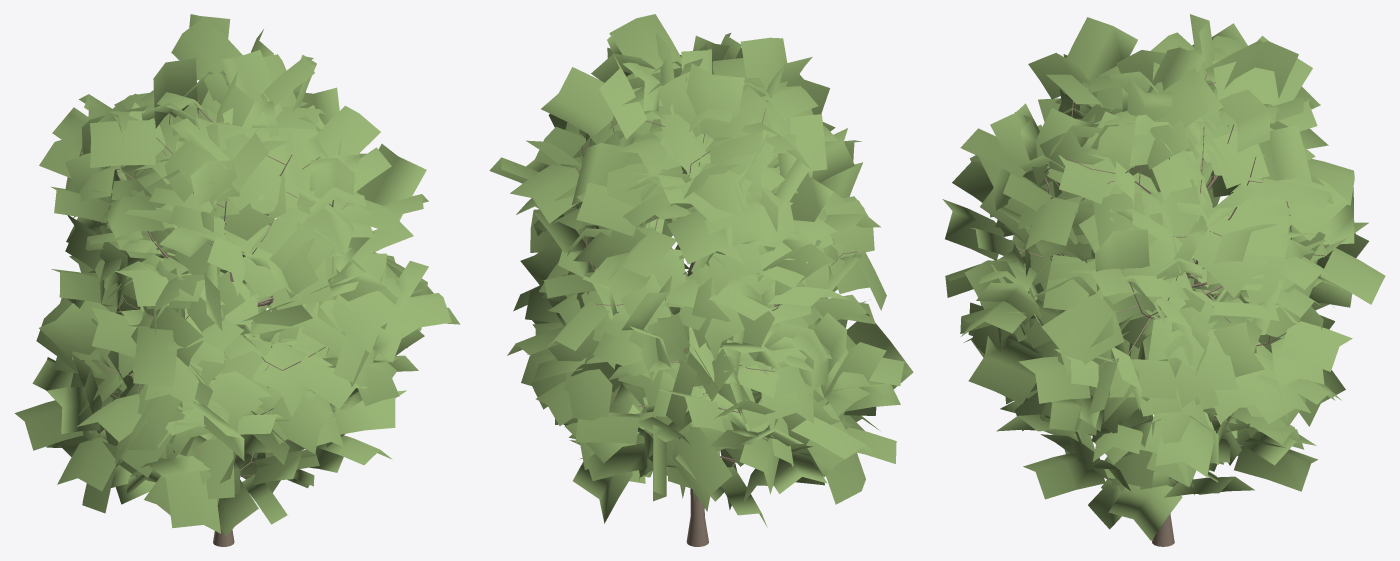
File: Broadleaf_12_young_lod0.glb
The picture shows the model from 3 angles, left to right: view 1: azimuth 30°, elevation 25°; view 2: azimuth 150°, elevation 25°; view 3: azimuth 270°, elevation 25°; orthographic projection. The views are drawn at different scales.
Visible parts, largest first — view 1: Broadleaf_12_young_lod0; view 2: Broadleaf_12_young_lod0; view 3: Broadleaf_12_young_lod0.
Boxes of the visible parts, x1,y1,x2,y2 form: Broadleaf_12_young_lod0: (14, 14, 460, 546); Broadleaf_12_young_lod0: (489, 14, 913, 546); Broadleaf_12_young_lod0: (942, 14, 1385, 546).
Size of the model in its own units: 5.04 by 6.48 by 5.05.
